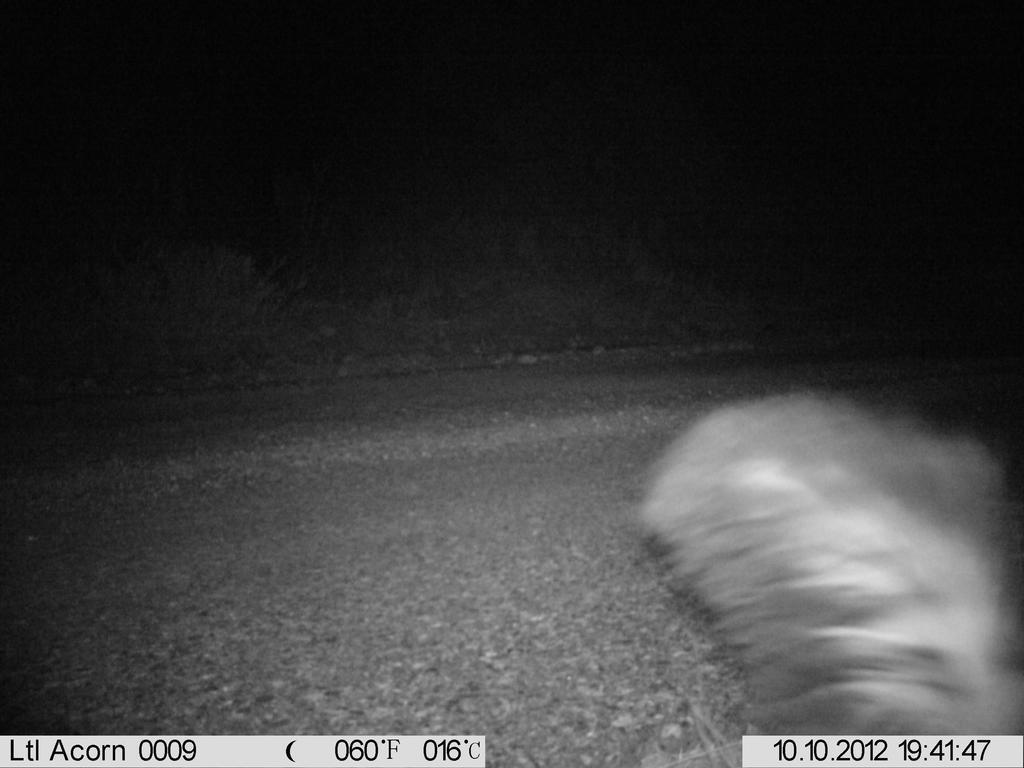skunk: (631, 385, 1023, 735)
